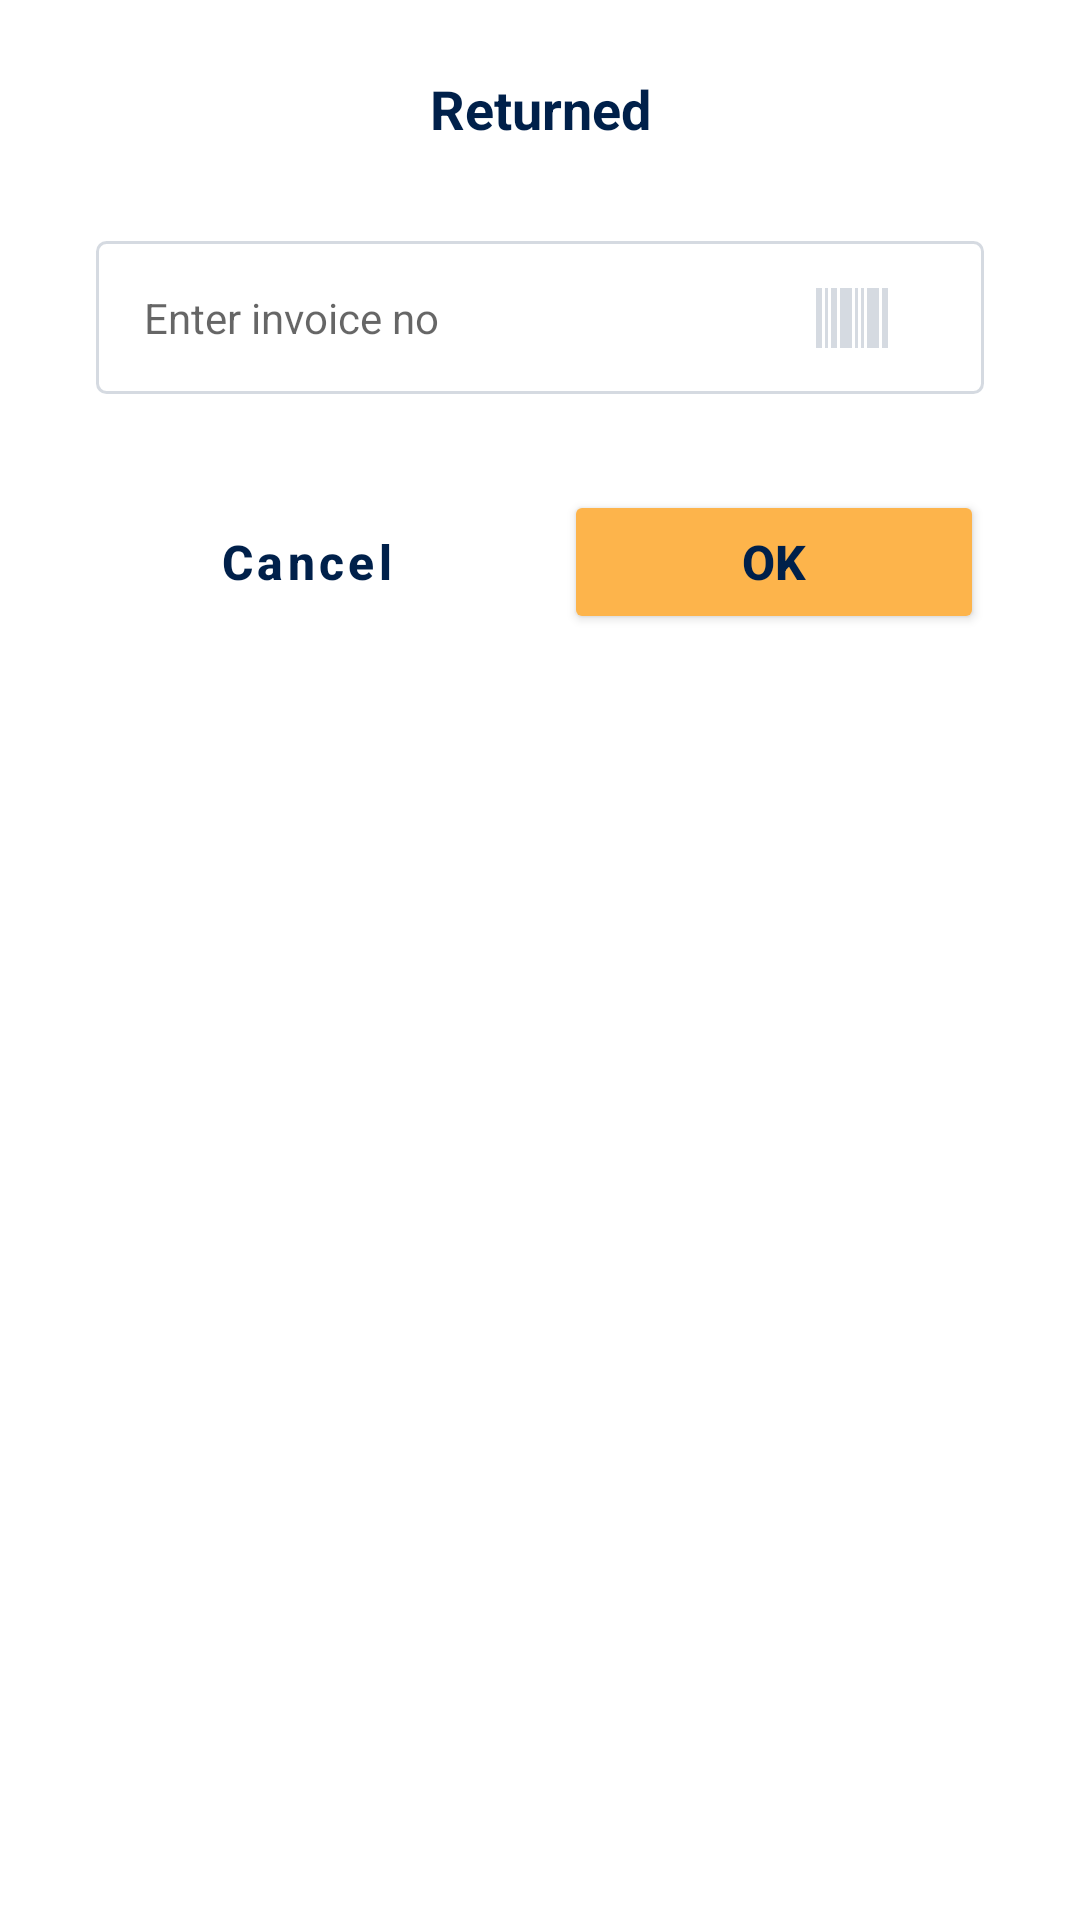

Where to tap for icons on this 1080x1920 app screen, as (x,y):
scan bar code: (852,318)
